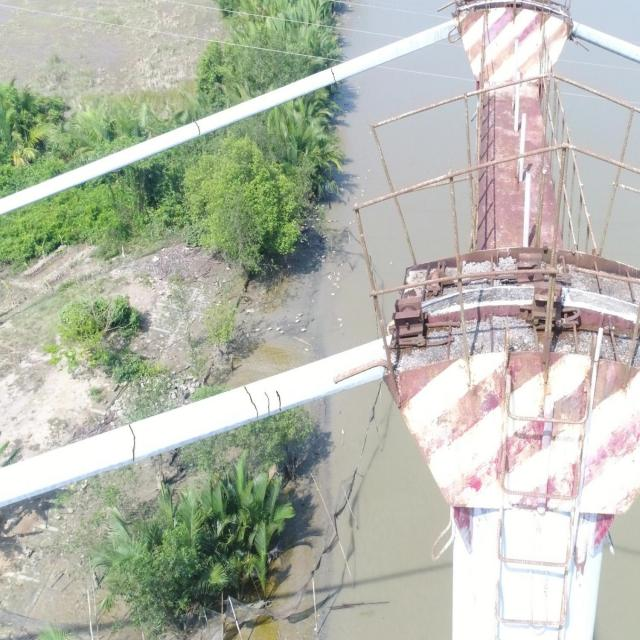crack: (244, 386, 258, 420), (128, 424, 136, 462), (276, 390, 282, 412), (264, 392, 270, 414), (330, 68, 337, 83), (194, 122, 200, 136)
